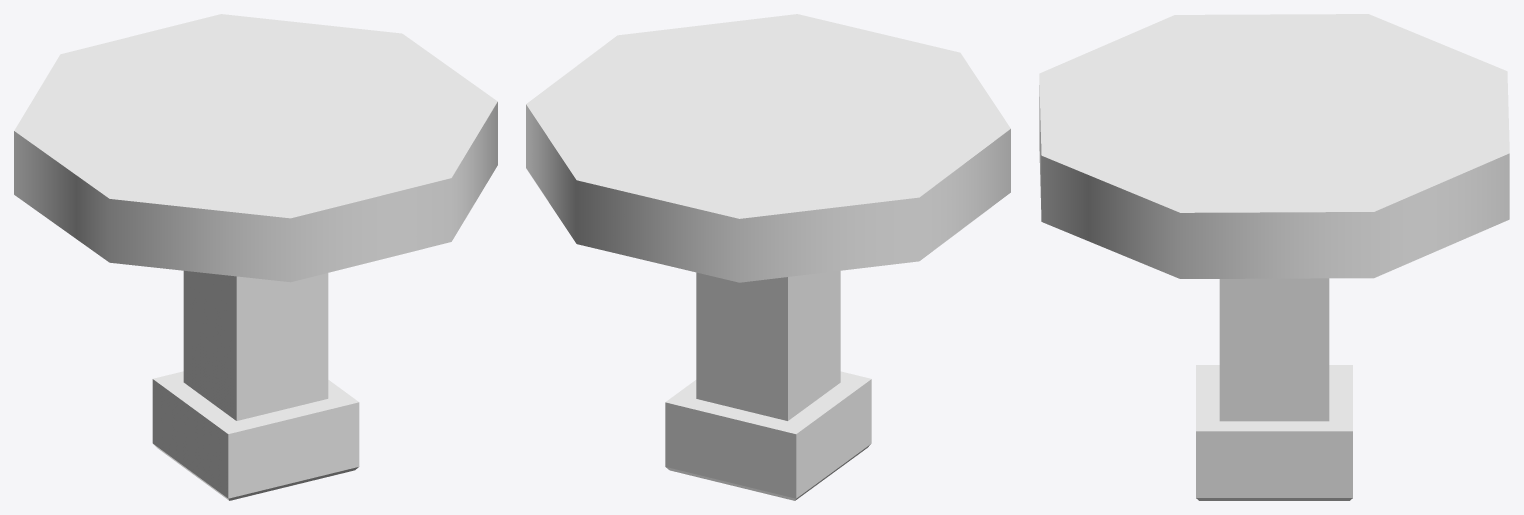
Rendered from Table_1.FBX.
The picture shows the model from 3 angles, left to right: view 1: azimuth 30°, elevation 25°; view 2: azimuth 150°, elevation 25°; view 3: azimuth 270°, elevation 25°; orthographic projection. The views are drawn at different scales.
Parts seen in each view (by area): view 1: Table_1; view 2: Table_1; view 3: Table_1.
Part boxes in pixels (left/top/right/bottom): Table_1: left=14, top=14, right=497, bottom=500; Table_1: left=526, top=14, right=1010, bottom=500; Table_1: left=1039, top=14, right=1509, bottom=500.
Size of the model in its own units: 300 by 250 by 300.
